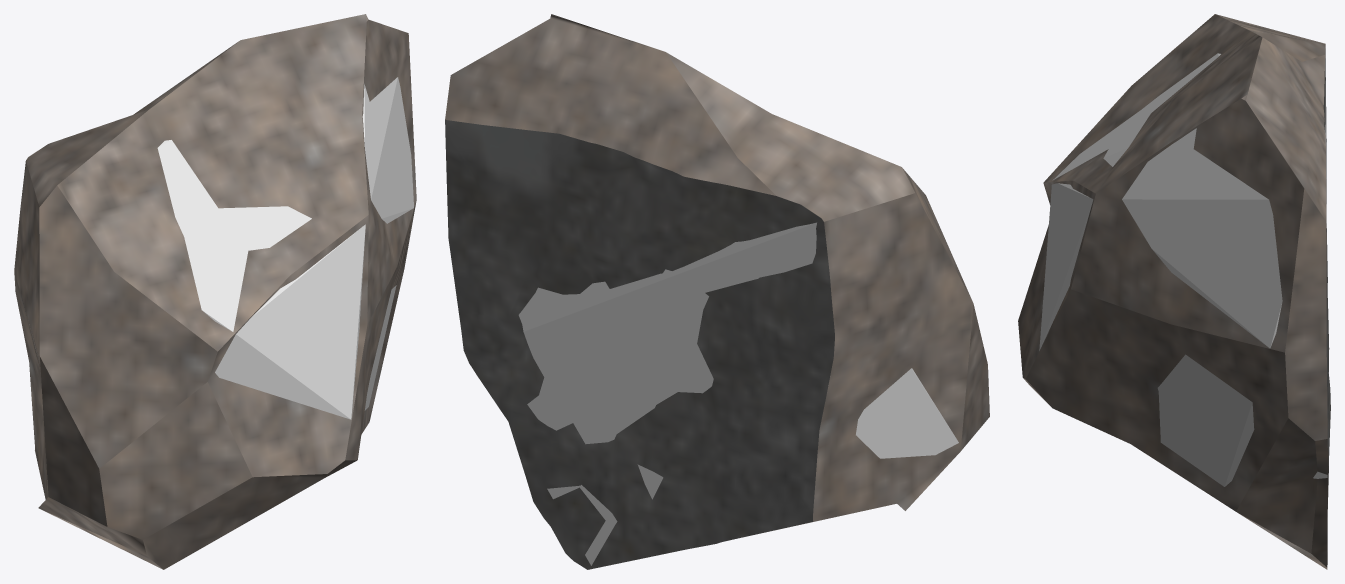
File: SM_Rock_39.fbx
3 renders of one model, left to right at view 1: azimuth 30°, elevation 25°; view 2: azimuth 150°, elevation 25°; view 3: azimuth 270°, elevation 25°, orthographic. The views are drawn at different scales.
Parts seen in each view (by area): view 1: SM_Rock_39_LOD0, SM_Rock_39_ConvexHulls; view 2: SM_Rock_39_LOD0, SM_Rock_39_ConvexHulls; view 3: SM_Rock_39_LOD0, SM_Rock_39_ConvexHulls.
Boxes of the visible parts, x1=… form: SM_Rock_39_LOD0: x1=14, y1=14, x2=416, y2=569; SM_Rock_39_ConvexHulls: x1=157, y1=77, x2=413, y2=419; SM_Rock_39_LOD0: x1=445, y1=14, x2=989, y2=569; SM_Rock_39_ConvexHulls: x1=518, y1=222, x2=958, y2=565; SM_Rock_39_LOD0: x1=1018, y1=14, x2=1330, y2=569; SM_Rock_39_ConvexHulls: x1=1039, y1=53, x2=1327, y2=486.
Bounding box in the file's own units: 36.8 × 21.95 × 39.6.
